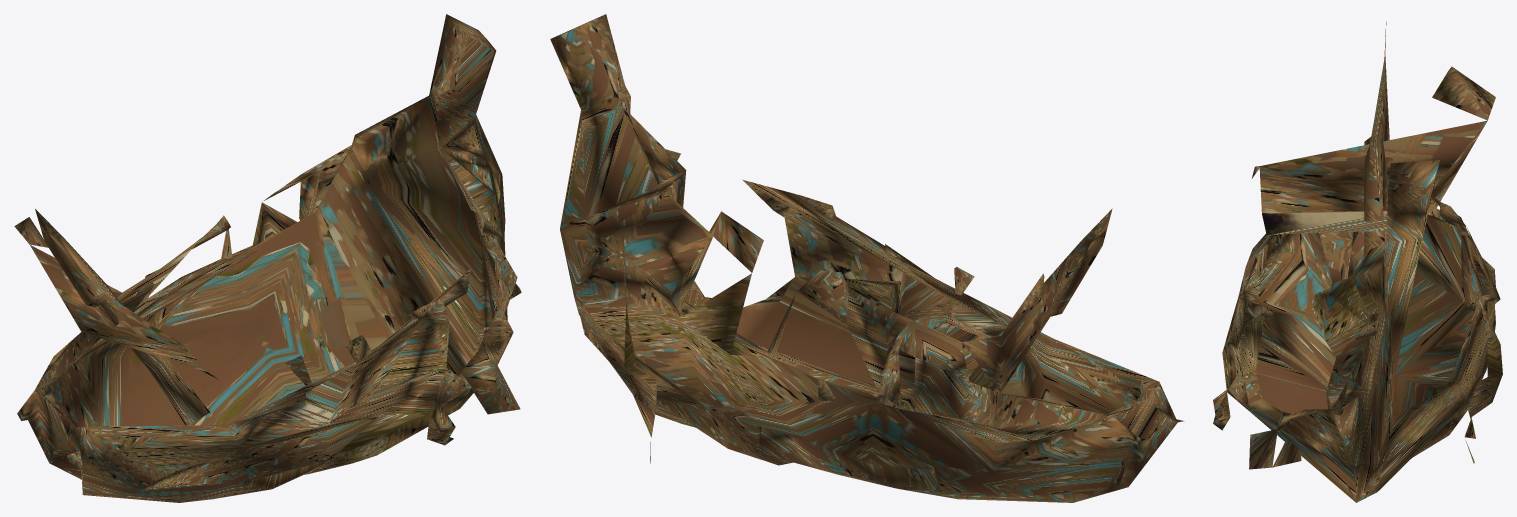
Rendered from shipwreck.glb.
The picture shows the model from 3 angles, left to right: view 1: azimuth 30°, elevation 25°; view 2: azimuth 150°, elevation 25°; view 3: azimuth 270°, elevation 25°; orthographic projection. The views are drawn at different scales.
Parts seen in each view (by area): view 1: tripo_node_7dfc5369-eb2f-4db7-85a9-ba290efa9115; view 2: tripo_node_7dfc5369-eb2f-4db7-85a9-ba290efa9115; view 3: tripo_node_7dfc5369-eb2f-4db7-85a9-ba290efa9115.
Part boxes in pixels (left/top/right/bottom): tripo_node_7dfc5369-eb2f-4db7-85a9-ba290efa9115: left=14, top=14, right=521, bottom=502; tripo_node_7dfc5369-eb2f-4db7-85a9-ba290efa9115: left=550, top=14, right=1184, bottom=502; tripo_node_7dfc5369-eb2f-4db7-85a9-ba290efa9115: left=1213, top=21, right=1502, bottom=502.
Size of the model in its own units: 0.6018 by 0.4155 by 0.3051.
1 material, 1 textured.
